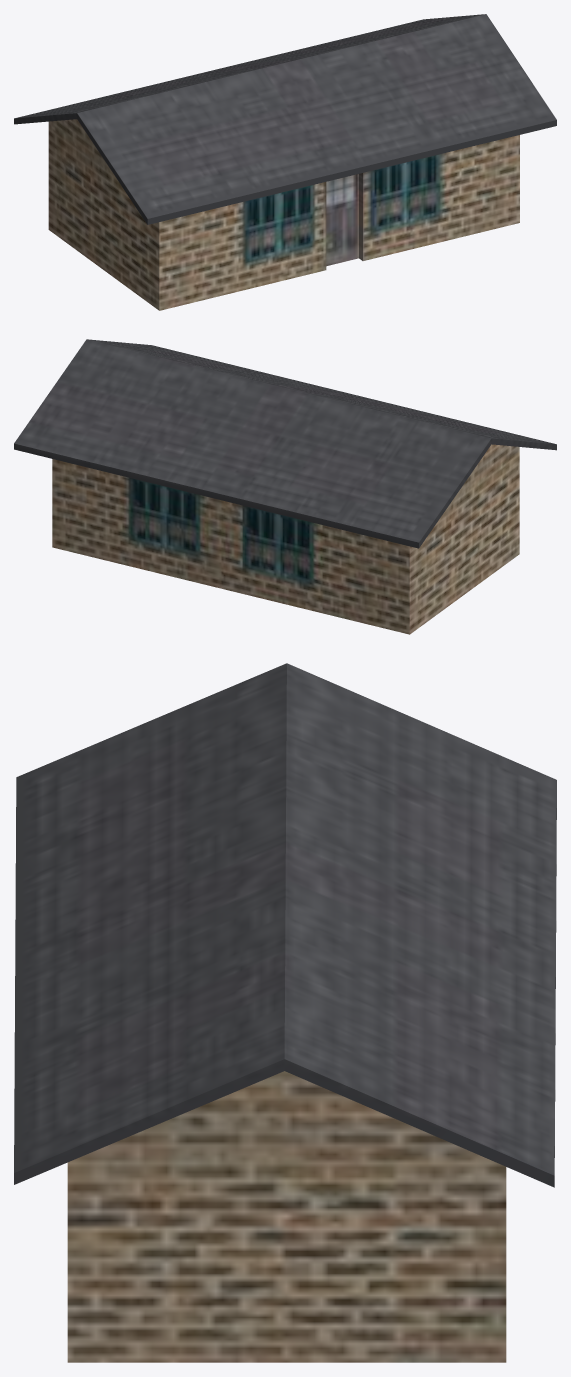
Rendered from Rumah2.fbx.
3 renders of one model, top to bottom at view 1: azimuth 30°, elevation 25°; view 2: azimuth 150°, elevation 25°; view 3: azimuth 270°, elevation 25°, orthographic. The views are drawn at different scales.
Parts seen in each view (by area): view 1: texture 1; view 2: texture 1; view 3: texture 1.
Boxes of the visible parts, left/top/right/bottom form: texture 1: left=14, top=14, right=556, bottom=310; texture 1: left=14, top=339, right=556, bottom=634; texture 1: left=14, top=663, right=556, bottom=1362.
Size of the model in its own units: 1252 by 474 by 718.
Materials: 1 (1 with a texture image).
